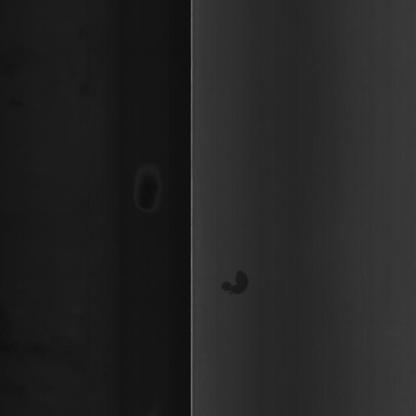oil_spot: (216, 258, 255, 306)
